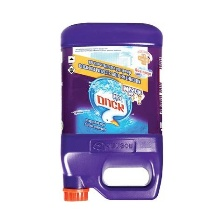cleaning_solution: (53, 18, 167, 207)
